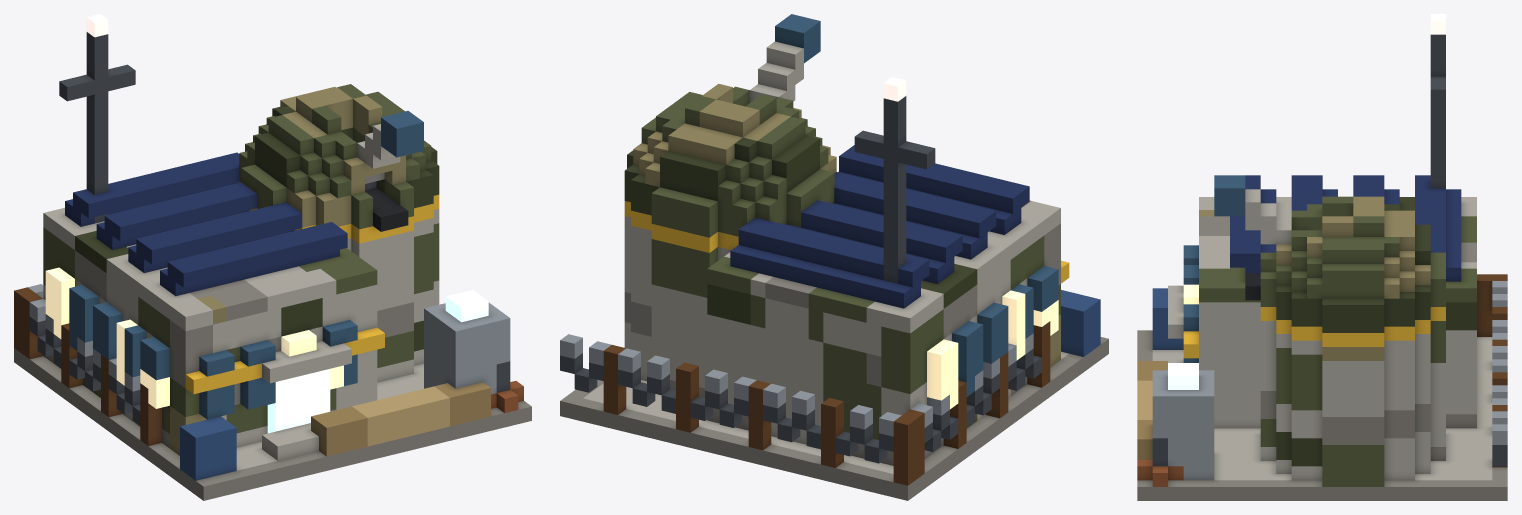
The model's file is cm_lab_2.glb.
3 views of the same model, side by side, from view 1: azimuth 30°, elevation 25°; view 2: azimuth 150°, elevation 25°; view 3: azimuth 270°, elevation 25° (orthographic). The views are drawn at different scales.
Parts seen in each view (by area): view 1: cm_lab_2_body; view 2: cm_lab_2_body; view 3: cm_lab_2_body.
Part boxes in pixels (bbox=[...]): cm_lab_2_body: bbox=[14, 14, 531, 500]; cm_lab_2_body: bbox=[560, 14, 1108, 500]; cm_lab_2_body: bbox=[1137, 14, 1507, 500].
Size of the model in its own units: 1.5 by 1.56 by 1.5.
1 material, 1 textured.
